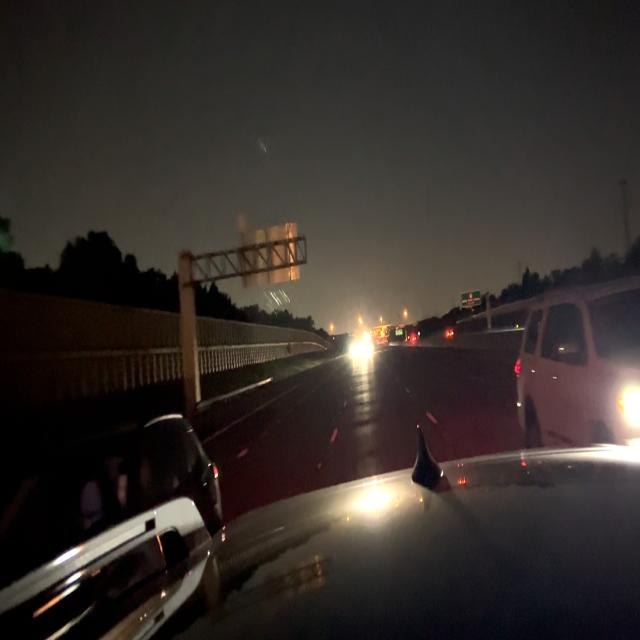back-of-sign: (238, 221, 300, 287)
